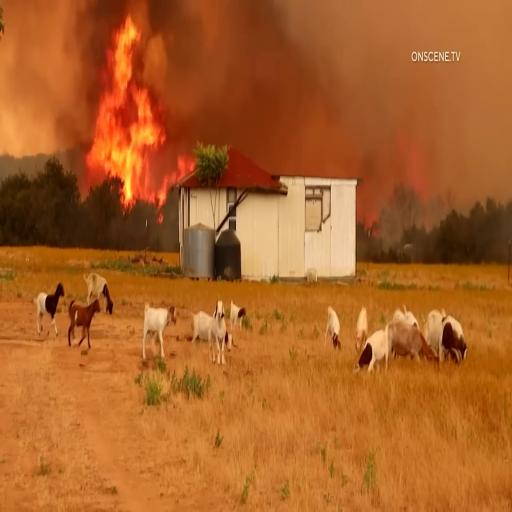fire: (87, 6, 168, 224)
